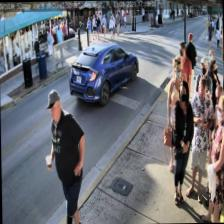person: (43, 88, 85, 224), (183, 77, 214, 201), (198, 94, 224, 222), (169, 79, 195, 204), (202, 83, 224, 207), (166, 55, 183, 171), (193, 56, 213, 152), (204, 58, 220, 152), (173, 42, 192, 112), (204, 49, 214, 96)
